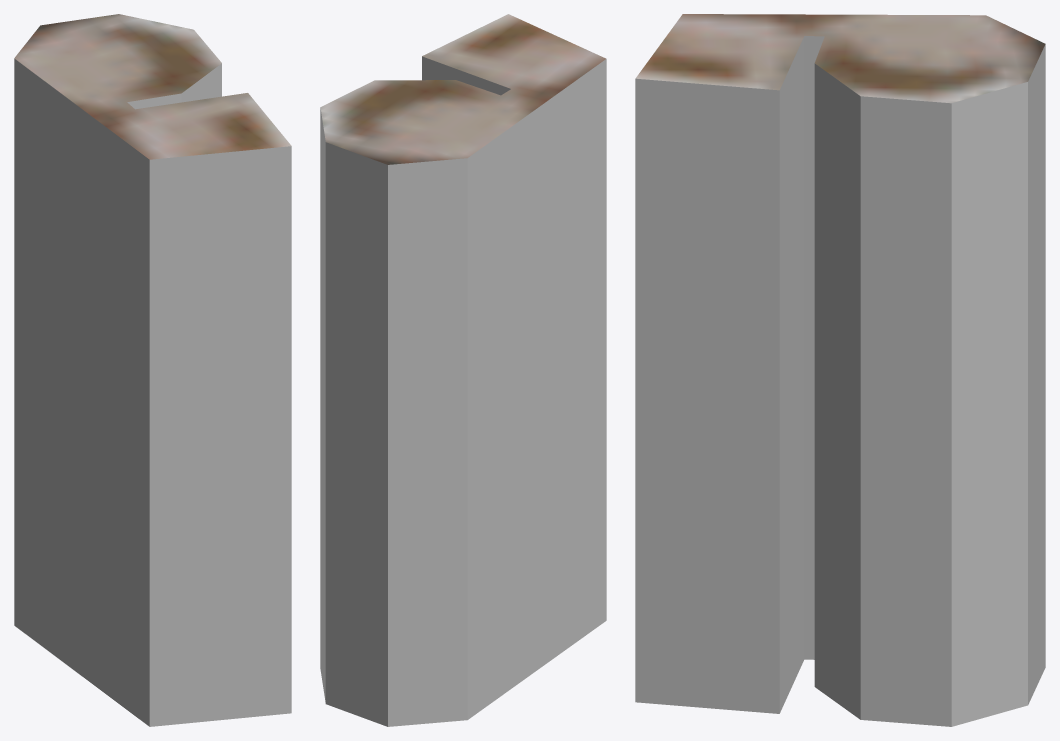
The model's file is DEBW_001000gVM6v.gltf.
3 renders of one model, left to right at view 1: azimuth 30°, elevation 25°; view 2: azimuth 150°, elevation 25°; view 3: azimuth 270°, elevation 25°, orthographic. The views are drawn at different scales.
Visible parts, largest first — view 1: Z_UP; view 2: Z_UP; view 3: Z_UP.
Part boxes in pixels (x1,y1,x2,y2): Z_UP: (14,14,291,726); Z_UP: (320,14,606,726); Z_UP: (635,14,1045,726).
Bounding box in the file's own units: 2.9 × 9.44 × 5.63.
2 materials, 1 textured.
